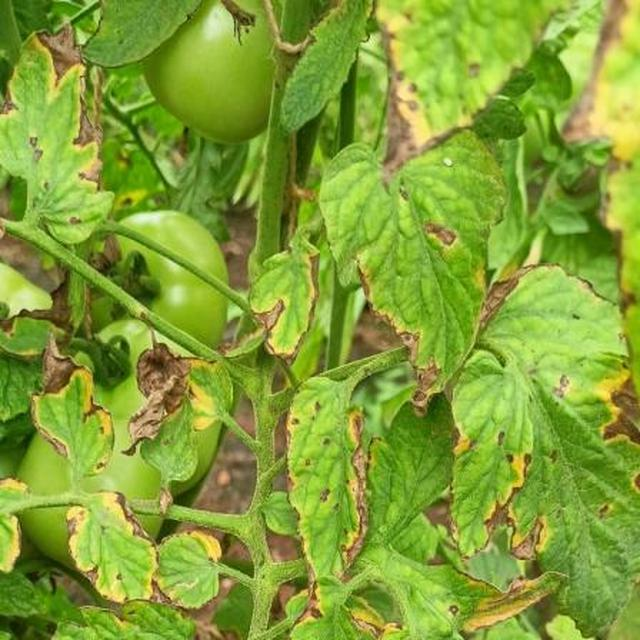Early Blight Leaf: (84, 109, 640, 640)
